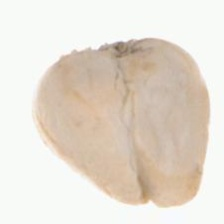L3: (128, 198, 181, 205)
L4: (34, 37, 210, 207)
